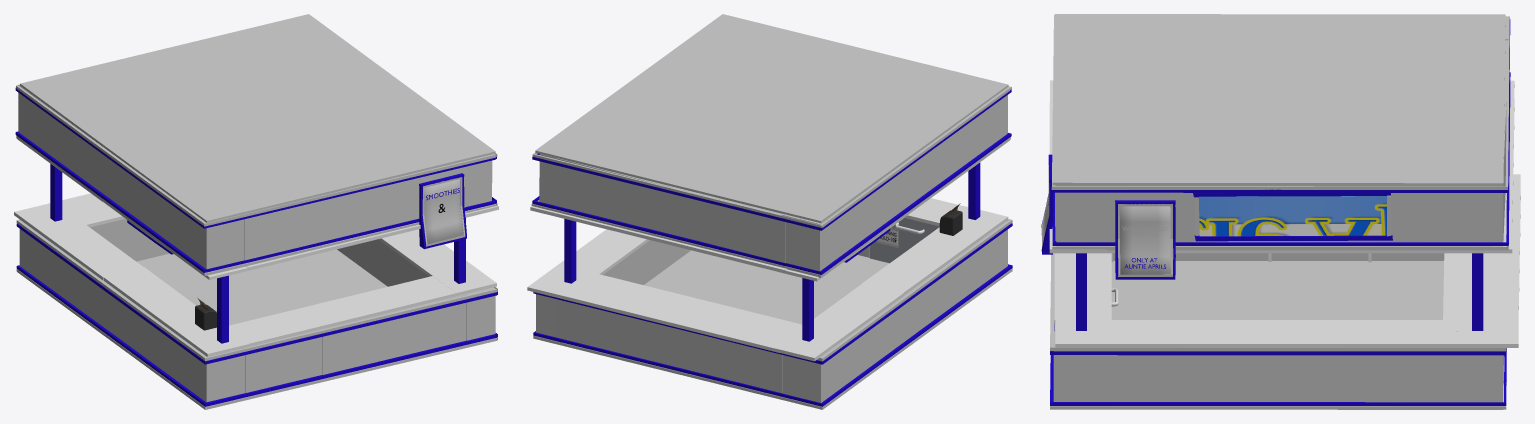
The model's file is auntieannestandFINAL (1).fbx.
The picture shows the model from 3 angles, left to right: view 1: azimuth 30°, elevation 25°; view 2: azimuth 150°, elevation 25°; view 3: azimuth 270°, elevation 25°; orthographic projection. The views are drawn at different scales.
Parts seen in each view (by area): view 1: Cube.080, Cube.060, Cube.009, Cube.047, Cube.029, Cube, Cube.048, Cube.002, Plane.001, Cube.001, Cube.014, Cube.031 (+21 smaller); view 2: Cube.080, Cube.006, Cube.060, Cube.003, Cube.047, Cube.009, Cube.004, Cube.048, Cube.002, Cube.001, Cube.031, Cube.043 (+16 smaller); view 3: Cube.080, Cube.002, Cube.009, Cube.001, Cube.005, Cube.087, Cube.004, Cube.059, Cube.026, Cube.032, Cube.031, Cube.047 (+15 smaller).
Part boxes in pixels (x1,y1,x2,y2): Cube.080: (20, 14, 495, 222); Cube.060: (18, 84, 243, 268); Cube.009: (137, 249, 387, 409); Cube.047: (19, 220, 245, 402); Cube.029: (244, 167, 465, 263); Cube: (322, 294, 466, 374); Cube.048: (14, 203, 142, 280); Cube.002: (337, 239, 495, 340); Plane.001: (245, 337, 321, 392); Cube.001: (378, 229, 496, 296); Cube.014: (16, 219, 497, 361); Cube.031: (16, 265, 497, 406); Cube.080: (535, 14, 1008, 222); Cube.006: (539, 154, 785, 266); Cube.060: (782, 95, 1007, 271); Cube.003: (555, 299, 782, 393); Cube.047: (782, 221, 1007, 402); Cube.009: (644, 250, 889, 324); Cube.004: (549, 269, 802, 352); Cube.048: (774, 283, 903, 361); Cube.002: (536, 240, 690, 336); Cube.001: (527, 229, 649, 298); Cube.031: (533, 264, 1012, 406); Cube.043: (532, 133, 1011, 274); Cube.080: (1052, 14, 1505, 185); Cube.002: (1053, 331, 1503, 402); Cube.009: (1111, 261, 1504, 409); Cube.001: (1055, 320, 1518, 347); Cube.005: (1055, 185, 1501, 246); Cube.087: (1199, 196, 1386, 236); Cube.004: (1443, 195, 1520, 331); Cube.059: (1119, 206, 1170, 274); Cube.026: (1051, 14, 1509, 189); Cube.032: (1050, 324, 1506, 355); Cube.031: (1050, 328, 1506, 405); Cube.047: (1113, 253, 1444, 260).
Size of the model in its own units: 2078 by 1245 by 2388.
